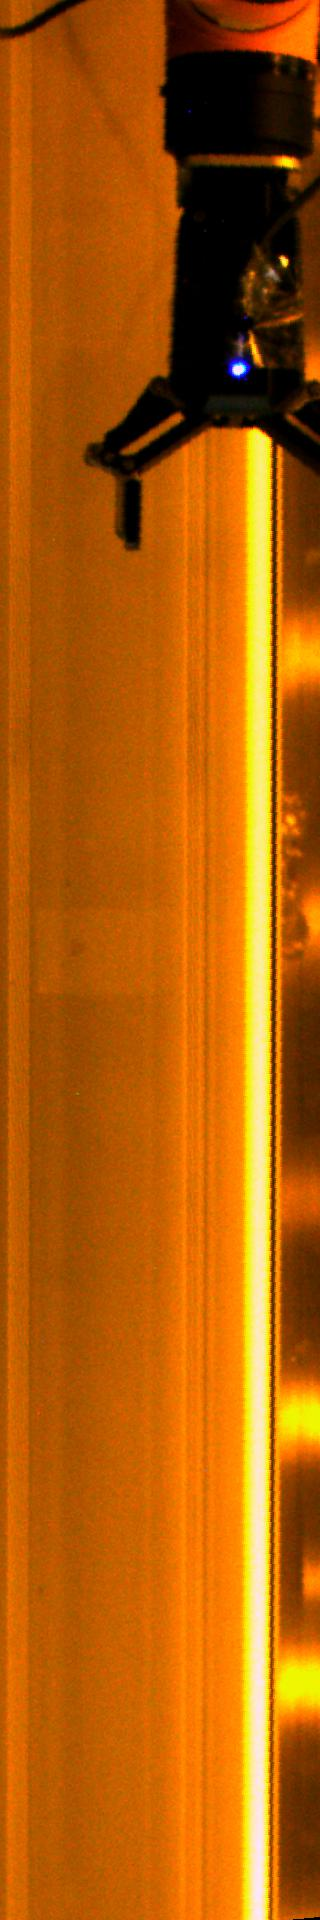keyPoint_1: (224, 355, 254, 384)
